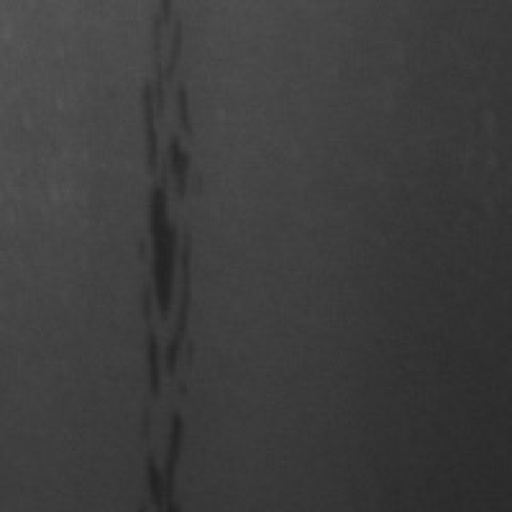inclusion: (131, 8, 204, 462), (132, 404, 195, 509)
